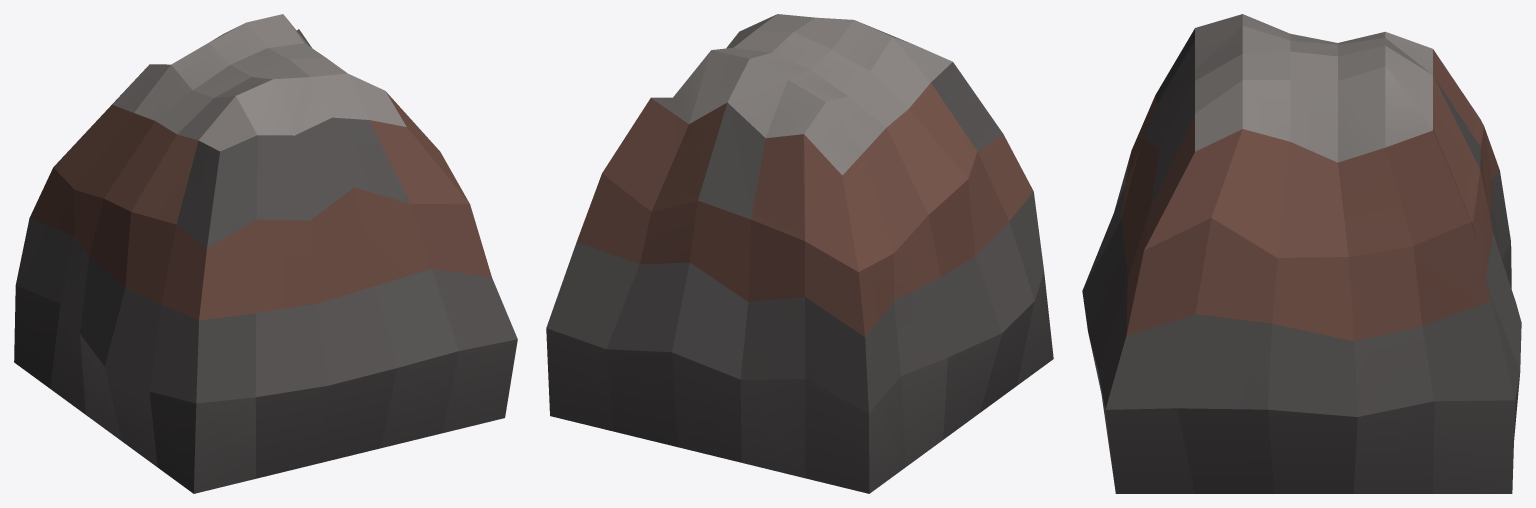
File: roca_suelta.glb
The picture shows the model from 3 angles, left to right: view 1: azimuth 30°, elevation 25°; view 2: azimuth 150°, elevation 25°; view 3: azimuth 270°, elevation 25°; orthographic projection. The views are drawn at different scales.
Parts seen in each view (by area): view 1: propforge-cuartos-roca_suelta; view 2: propforge-cuartos-roca_suelta; view 3: propforge-cuartos-roca_suelta.
Boxes of the visible parts, x1,y1,x2,y2 form: propforge-cuartos-roca_suelta: (14,14,517,493); propforge-cuartos-roca_suelta: (546,14,1053,493); propforge-cuartos-roca_suelta: (1082,14,1521,493).
Size of the model in its own units: 0.9151 by 0.8336 by 0.8864.
